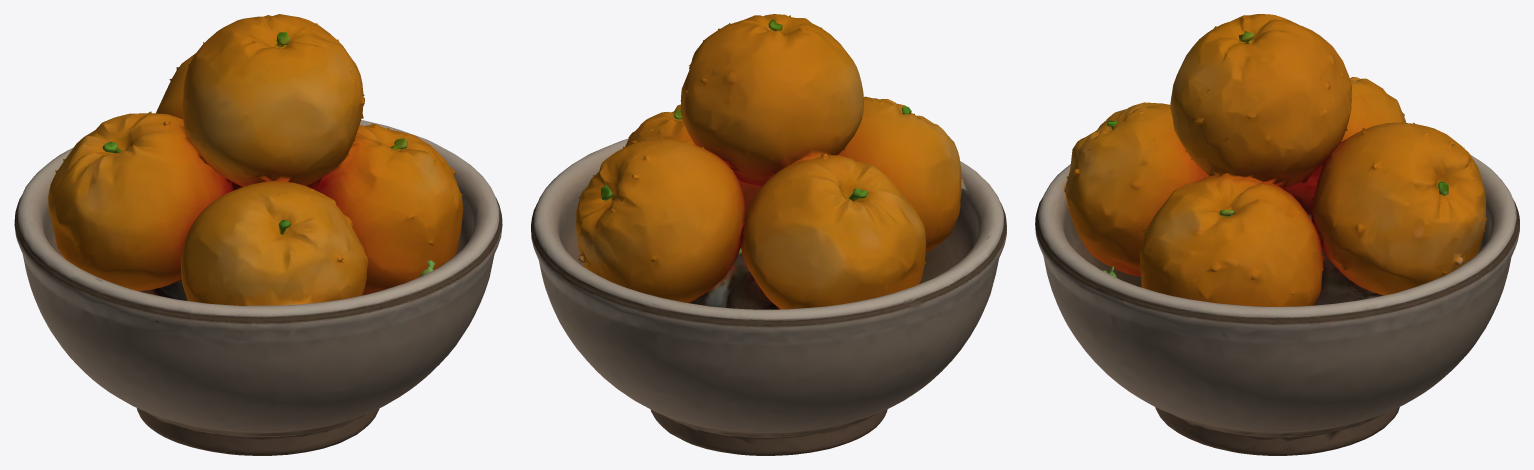
File: oranges.glb
The picture shows the model from 3 angles, left to right: view 1: azimuth 30°, elevation 25°; view 2: azimuth 150°, elevation 25°; view 3: azimuth 270°, elevation 25°; orthographic projection. The views are drawn at different scales.
Visible parts, largest first — view 1: tripo_node_fa0978e9-1c6c-40a2-b8d8-9d94245acfec; view 2: tripo_node_fa0978e9-1c6c-40a2-b8d8-9d94245acfec; view 3: tripo_node_fa0978e9-1c6c-40a2-b8d8-9d94245acfec.
Boxes of the visible parts, bbox=[...] form: tripo_node_fa0978e9-1c6c-40a2-b8d8-9d94245acfec: bbox=[14, 14, 502, 455]; tripo_node_fa0978e9-1c6c-40a2-b8d8-9d94245acfec: bbox=[531, 14, 1006, 455]; tripo_node_fa0978e9-1c6c-40a2-b8d8-9d94245acfec: bbox=[1035, 14, 1519, 455].
Size of the model in its own units: 0.2294 by 0.2 by 0.2295.
Materials: 1 (1 with a texture image).
